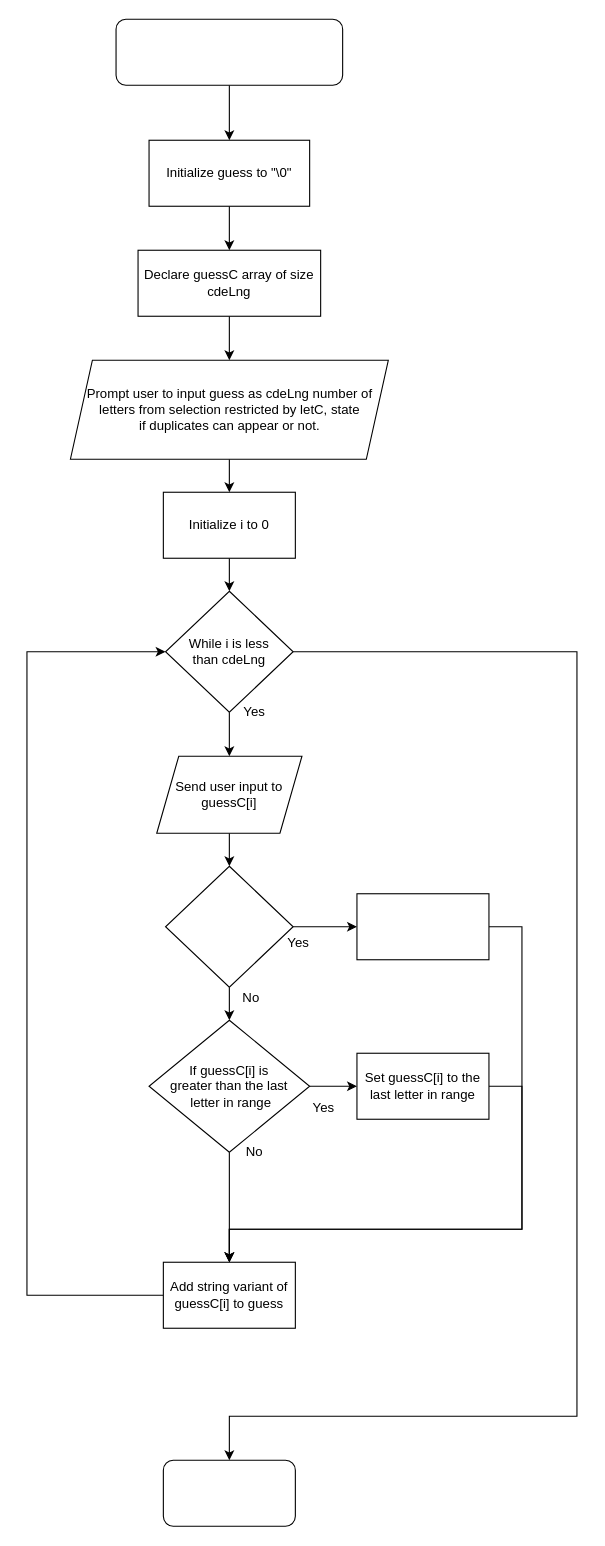
This 605x1546 diagram has some shape labels left out. The shapes that lost their labels are listed below. From the top down, each one's centre as x and y in pixels, then its label:
(229,51): Call getGuess function with parameters letC, cdeLng, duplic
(228,926): If guessC[i] is less than 'A'
(422,926): Set guessC[i] to A
(228,1492): Return guess
